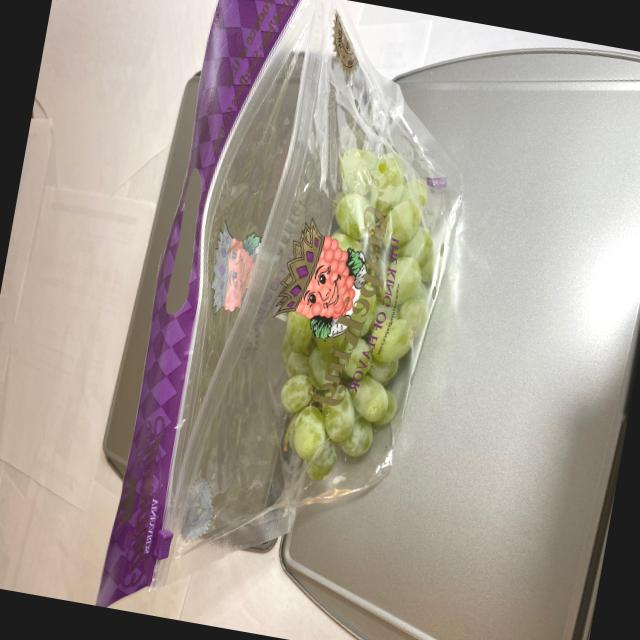grapes: (262, 114, 456, 497)
